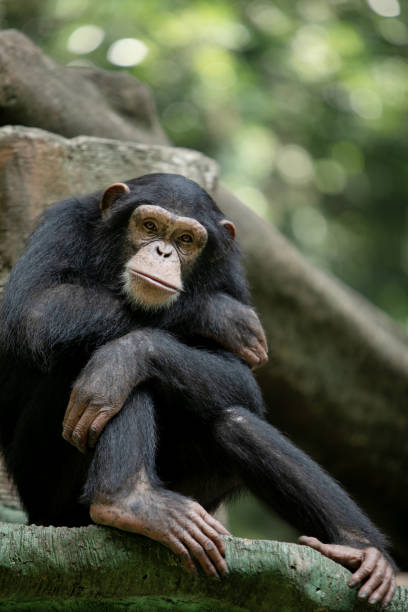chimpanzee: (70, 152, 250, 333)
